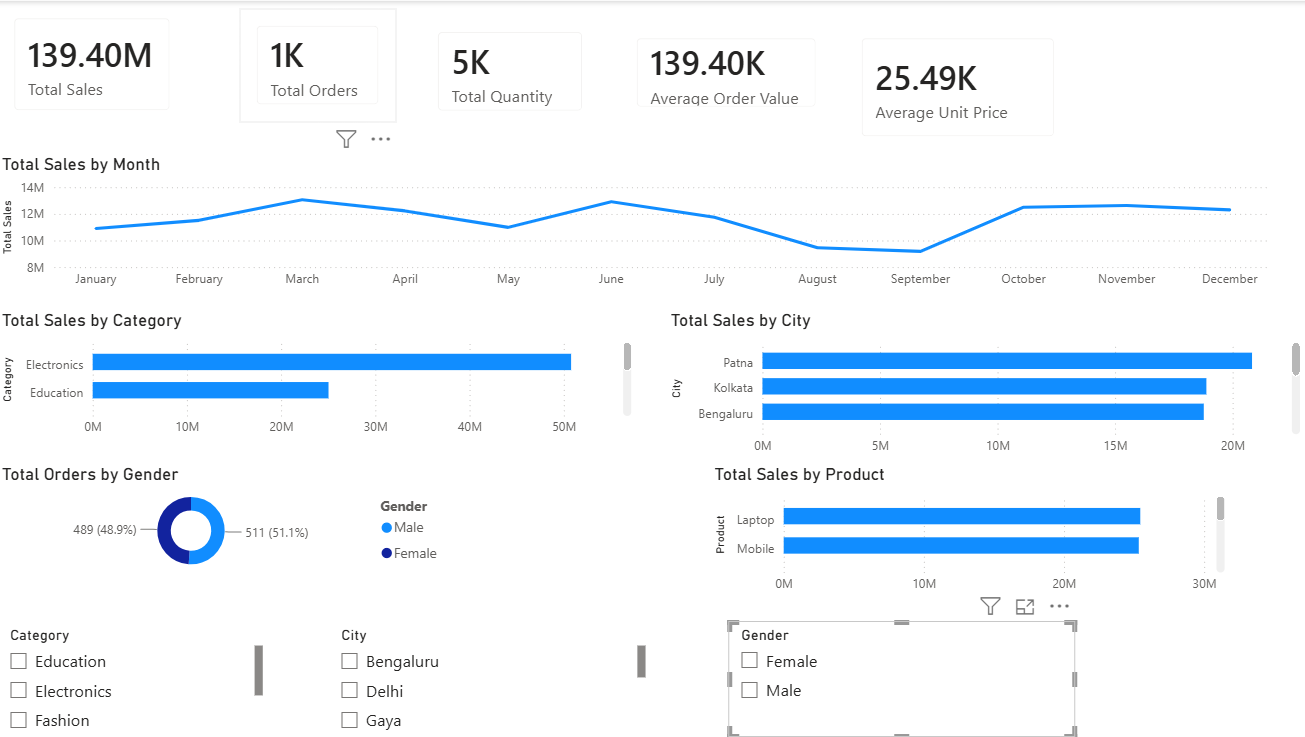

The page's visual inventory and layout, read from the dashboard file:
{"tool":"powerbi","page":{"name":"Page 1","canvas":[1280,720],"ordinal":0},"visuals":[{"type":"cardVisual","fields":{"Data":["Sheet1.Total Sales"]},"box":[0,0,186.6,124.9],"z":0},{"type":"cardVisual","fields":{"Data":["Sheet1.Total Orders"]},"box":[237.4,6.9,153.7,111.1],"z":1000},{"type":"cardVisual","fields":{"Data":["Sheet1.Total Quantity"]},"box":[414.4,13.7,175.6,111.1],"z":2000},{"type":"cardVisual","fields":{"Data":["Sheet1.Average Order Value"]},"box":[609.3,19.2,209.9,101.5],"z":3000},{"type":"cardVisual","fields":{"Data":["Sheet1.Average Unit Price"]},"box":[828.8,19.2,222.3,130.4],"z":4000},{"type":"lineChart","fields":{"Category":["Sheet1.Order_Date.Variation.Date Hierarchy.Month"],"Y":["Sheet1.Total Sales"]},"box":[0,149.6,1251.5,141.3],"z":5000},{"type":"clusteredBarChart","fields":{"Category":["Sheet1.Category"],"Y":["Sheet1.Total Sales"]},"box":[0,301.9,625.7,133.1],"z":5001},{"type":"clusteredBarChart","fields":{"Category":["Sheet1.City"],"Y":["Sheet1.Total Sales"]},"box":[654.5,301.9,625.7,150.9],"z":5002},{"type":"donutChart","fields":{"Category":["Sheet1.Gender"],"Y":["Sheet1.Total Orders"]},"box":[0,452.8,446,112.5],"z":5003},{"type":"clusteredBarChart","fields":{"Category":["Sheet1.Product"],"Y":["Sheet1.Total Sales"]},"box":[697.1,452.8,509.1,135.8],"z":5004},{"type":"slicer","fields":{"Values":["Sheet1.Category"]},"box":[0,606.5,264.8,113.9],"z":5005},{"type":"slicer","fields":{"Values":["Sheet1.City"]},"box":[323.8,606.5,315.6,113.9],"z":5006},{"type":"slicer","fields":{"Values":["Sheet1.Gender"]},"box":[714.9,606.5,340.3,113.9],"z":5007}]}

Visuals, with their boxes in screenshot pixels (x1, y1, x2, y2), scaled from the page's 1280x720 canvas onto the 1305x737 screenshot:
cardVisual - Sheet1.Total Sales: locate(0, 0, 190, 128)
cardVisual - Sheet1.Total Orders: locate(242, 7, 399, 121)
cardVisual - Sheet1.Total Quantity: locate(422, 14, 602, 128)
cardVisual - Sheet1.Average Order Value: locate(621, 20, 835, 124)
cardVisual - Sheet1.Average Unit Price: locate(845, 20, 1072, 153)
lineChart - Sheet1.Order_Date.Variation.Date Hierarchy.Month x Sheet1.Total Sales: locate(0, 153, 1276, 298)
clusteredBarChart - Sheet1.Category x Sheet1.Total Sales: locate(0, 309, 638, 445)
clusteredBarChart - Sheet1.City x Sheet1.Total Sales: locate(667, 309, 1304, 463)
donutChart - Sheet1.Gender x Sheet1.Total Orders: locate(0, 463, 455, 579)
clusteredBarChart - Sheet1.Product x Sheet1.Total Sales: locate(711, 463, 1230, 602)
slicer - Sheet1.Category: locate(0, 621, 270, 736)
slicer - Sheet1.City: locate(330, 621, 652, 736)
slicer - Sheet1.Gender: locate(729, 621, 1076, 736)
